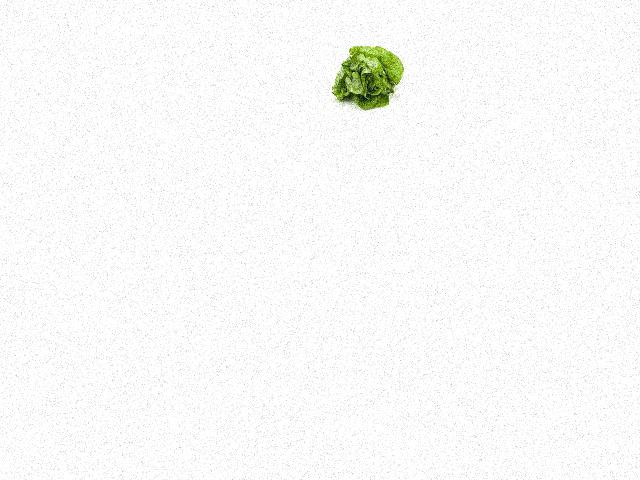lettuce: (330, 39, 404, 113)
